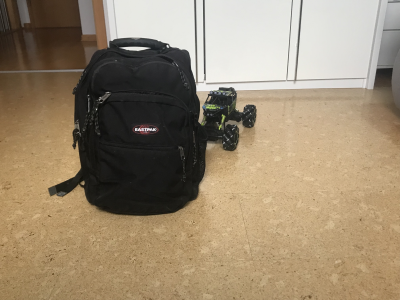remote control car: (194, 82, 258, 153)
